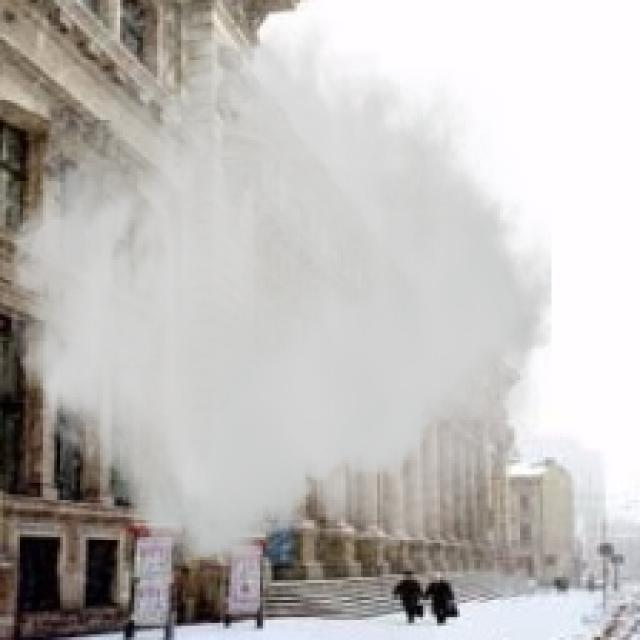Smoke: (2, 0, 552, 563)
